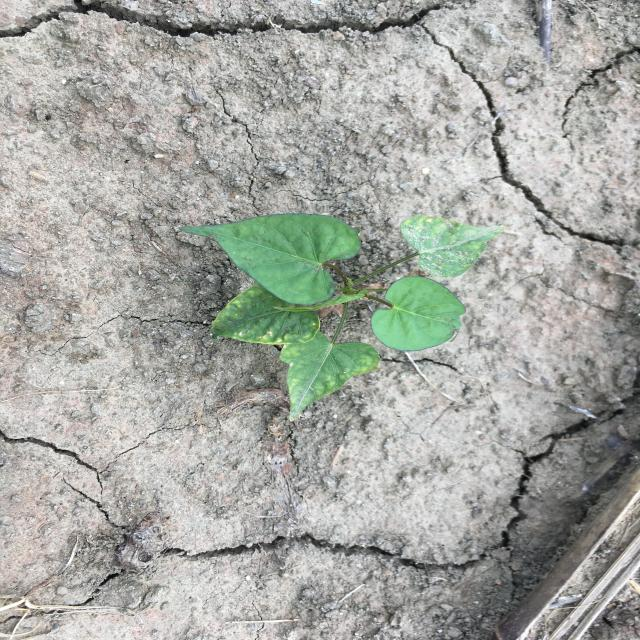MorningGlory: (175, 212, 508, 422)
